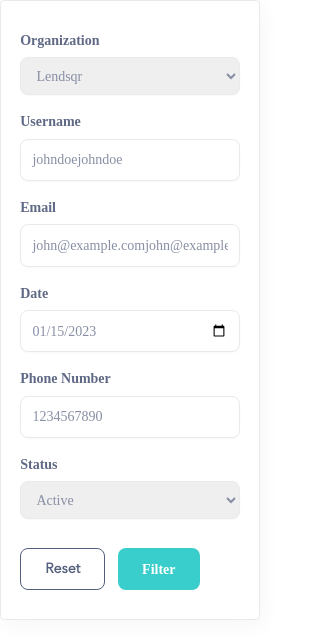
Scenario: FilterForm Component › Positive scenarios › should reset form correctly
# Fill out some fields
Type "johndoe" into the field labelled "Username" at (130, 160), box [20,139,240,181]
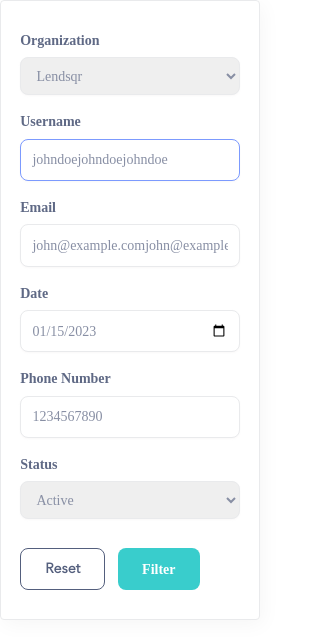
Type "john@example.com" into the field labelled "Email" at (130, 245), box [20,224,240,266]
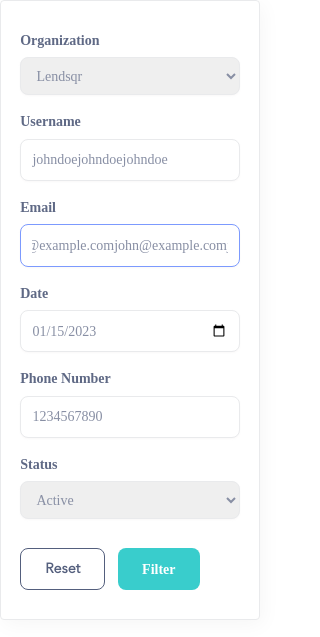
# Click reset
Click the button "Reset" at (63, 569), box [20,548,105,590]
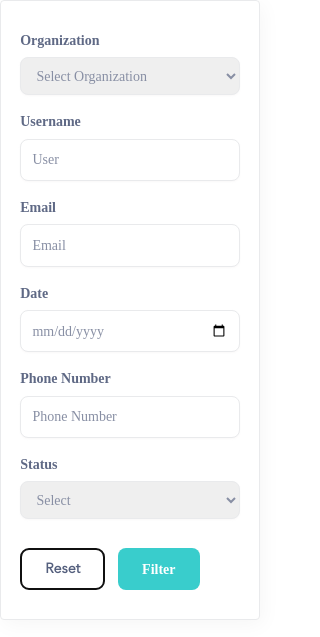
Expected: the field labelled "Username" is empty, [20,139,240,181]
Expected: the field labelled "Email" is empty, [20,224,240,266]
